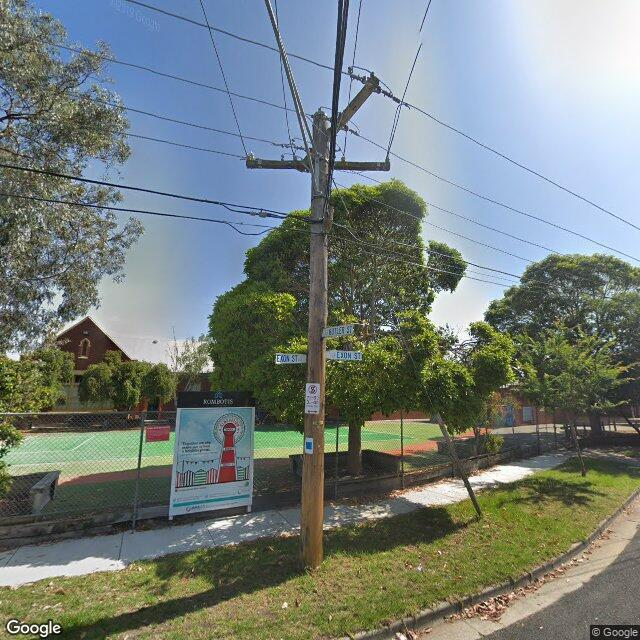crossarm: (246, 149, 392, 172), (329, 75, 380, 137)
timber-pole: (298, 108, 330, 569)
